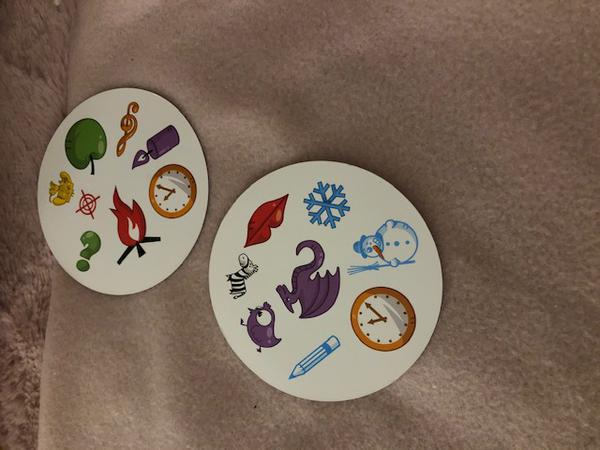bonhomme_neige: (343, 211, 421, 280)
bouche: (241, 191, 293, 251)
bougie: (131, 123, 181, 172)
chien: (47, 170, 75, 207)
cible: (67, 181, 95, 215)
crayon: (283, 330, 341, 383)
dragon: (276, 240, 342, 322)
feu: (108, 185, 163, 267)
flocon: (301, 176, 353, 232)
horloge: (348, 281, 415, 353), (148, 165, 198, 219)
note: (113, 99, 145, 153)
oiseau: (239, 302, 283, 354)
point_interrogation: (72, 230, 102, 275)
pomme: (65, 117, 110, 177)
zebre: (225, 249, 264, 304)
